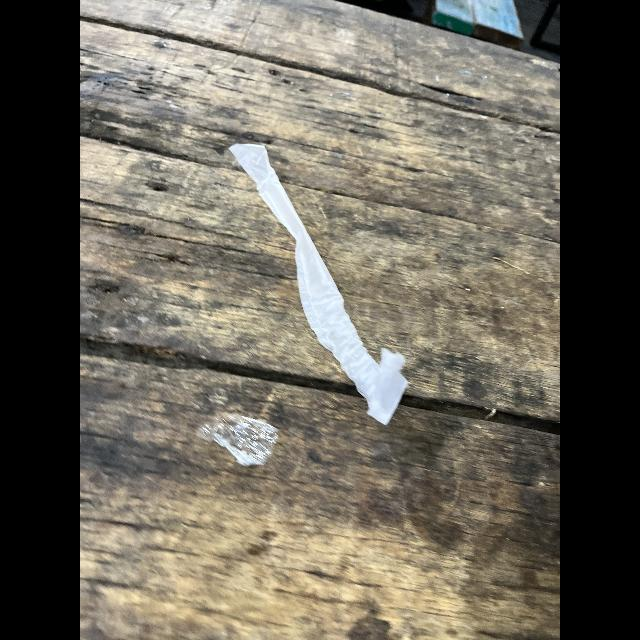scrap_plastic: (230, 142, 410, 426), (209, 406, 285, 469)
